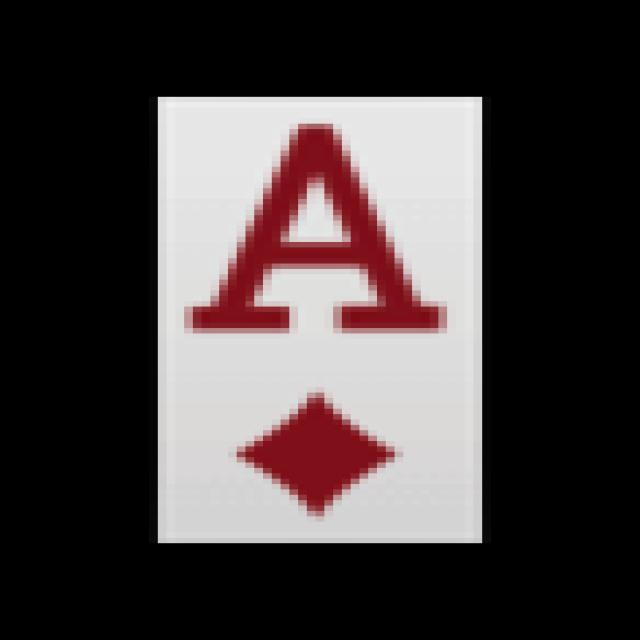AD: (180, 108, 462, 529)
